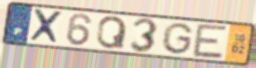3: (129, 17, 160, 54)
6: (65, 12, 94, 47)
E: (191, 22, 230, 61)
G: (159, 21, 195, 56)
Q: (95, 15, 129, 51)
X: (28, 8, 64, 46)
